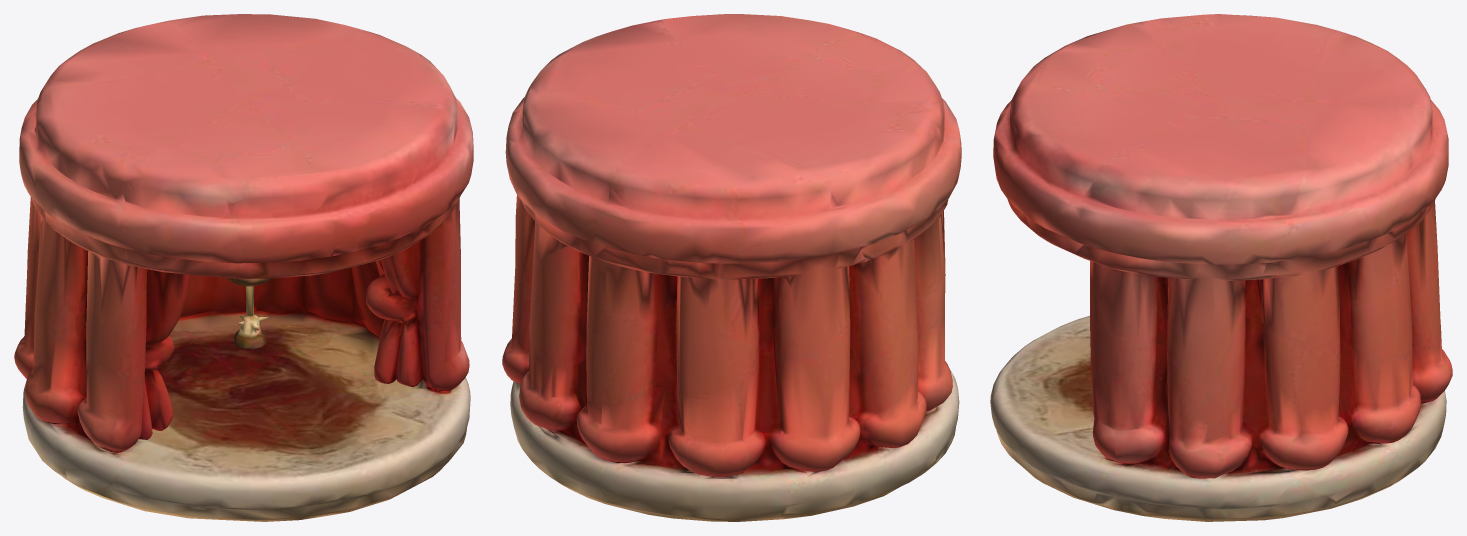
File: home-popup.glb
3 views of the same model, side by side, from view 1: azimuth 30°, elevation 25°; view 2: azimuth 150°, elevation 25°; view 3: azimuth 270°, elevation 25° (orthographic).
Visible parts, largest first — view 1: tripo_node_f5a28c22-6bda-4245-8bf5-6281a1ad24c9; view 2: tripo_node_f5a28c22-6bda-4245-8bf5-6281a1ad24c9; view 3: tripo_node_f5a28c22-6bda-4245-8bf5-6281a1ad24c9.
Part boxes in pixels (x1,y1,x2,y2): tripo_node_f5a28c22-6bda-4245-8bf5-6281a1ad24c9: [14, 14, 473, 521]; tripo_node_f5a28c22-6bda-4245-8bf5-6281a1ad24c9: [502, 14, 961, 521]; tripo_node_f5a28c22-6bda-4245-8bf5-6281a1ad24c9: [990, 14, 1452, 521].
Bounding box in the file's own units: 0.9781 × 0.7846 × 0.9792.
Materials: 1 (1 with a texture image).
